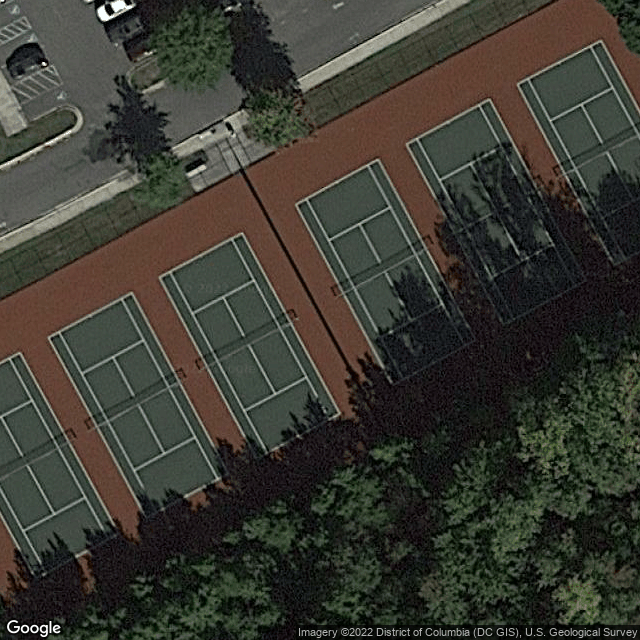Court: (295, 156, 480, 388), (157, 231, 341, 459), (404, 99, 587, 327), (50, 291, 229, 518), (517, 39, 640, 268), (0, 351, 122, 581)
